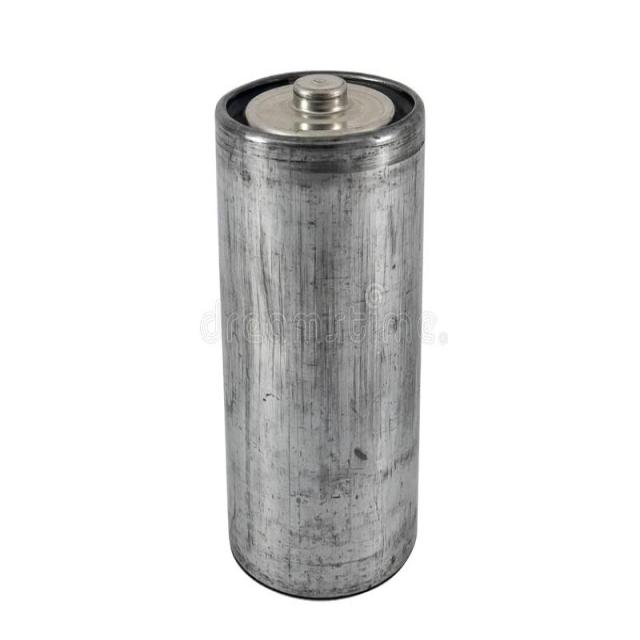Hazard: (218, 63, 426, 614)
